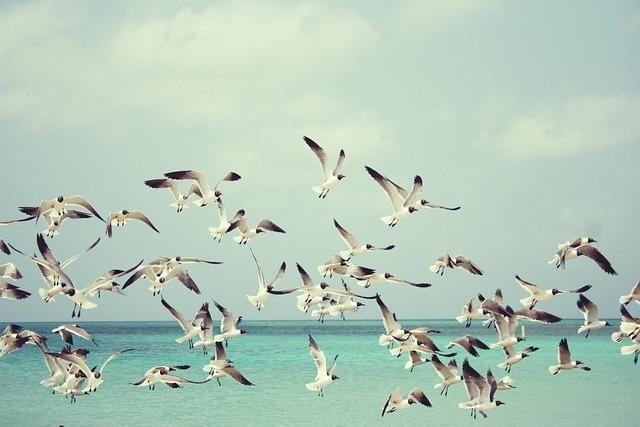Non_Gorille: (11, 141, 590, 427)
